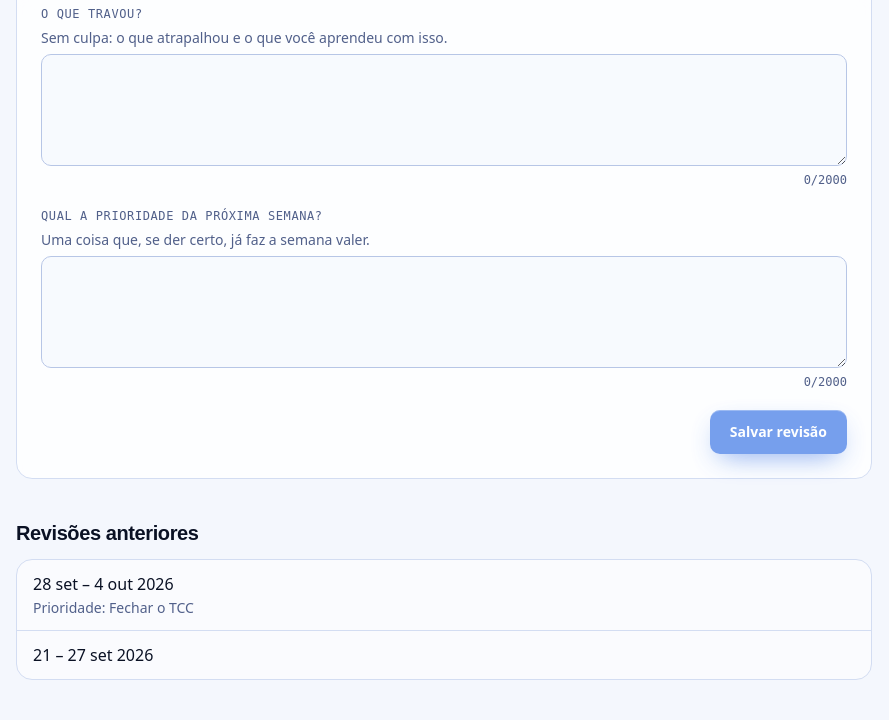
Scenario: ReviewPage › revisões anteriores › lista as semanas com a prioridade e abre a semana ao clicar
(page scrolled)
Check: the link "21 – 27 set 2026" is shown, box [33,644,153,666]
Check: the link "21 – 27 set 2026" does not show "Prioridade", box [33,644,153,666]
Click the link "28 set – 4 out 2026 Prioridade: Fechar o TCC": [113, 595] box [33,573,194,617]
(page scrolled)
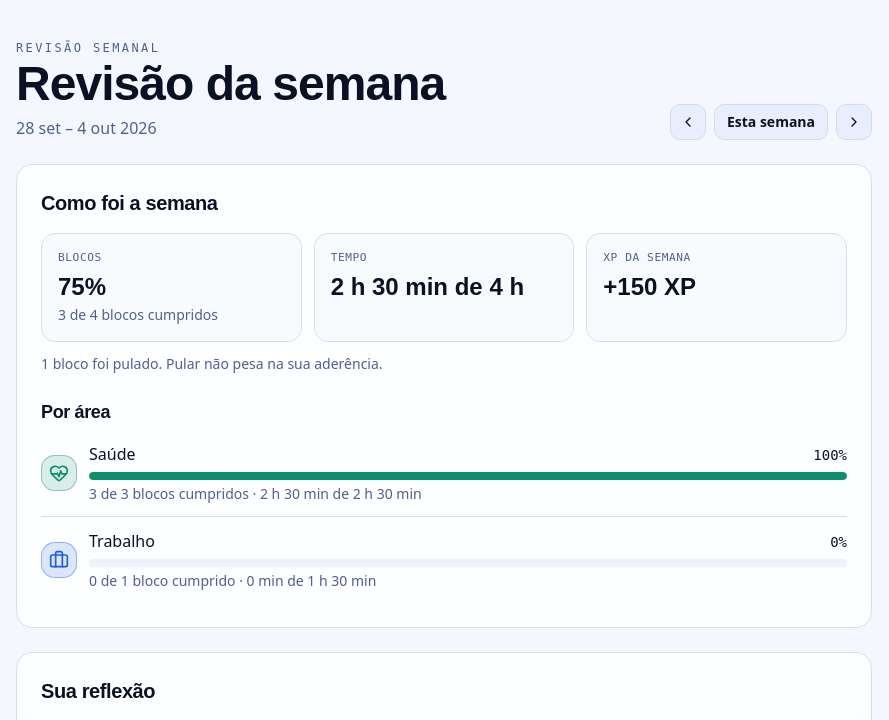
Check: the text "28 set – 4 out 2026" is shown, box [16,117,157,139]
